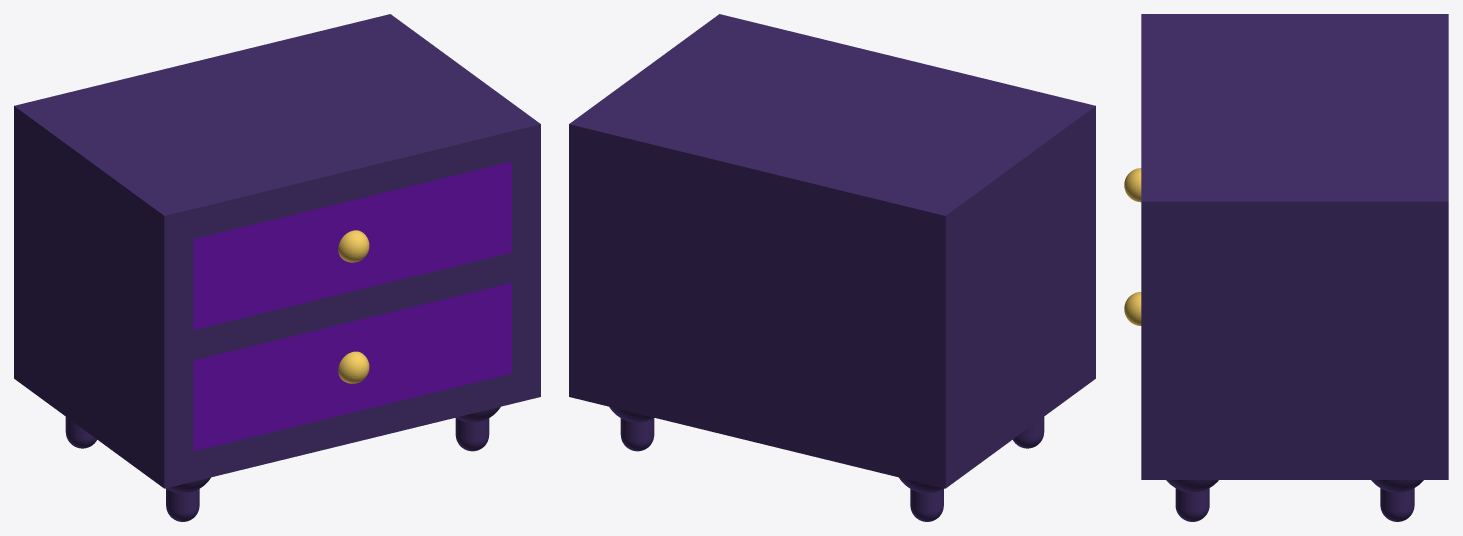
File: mesinha.gltf
3 views of the same model, side by side, from view 1: azimuth 30°, elevation 25°; view 2: azimuth 150°, elevation 25°; view 3: azimuth 270°, elevation 25° (orthographic). The views are drawn at different scales.
Visible parts, largest first — view 1: cuboid (×8), sphere (×2), cylinder (×2); view 2: cuboid (×6), cylinder (×2); view 3: cuboid (×6), sphere (×4), cylinder (×2).
Boxes of the visible parts, <box> form: cuboid (×8): <box>14,14,540,488</box>; sphere (×2): <box>338,230,369,383</box>; cylinder (×2): <box>166,418,489,512</box>; cuboid (×6): <box>569,14,1095,488</box>; cylinder (×2): <box>620,418,943,512</box>; cuboid (×6): <box>1141,14,1448,479</box>; sphere (×4): <box>1124,168,1423,492</box>; cylinder (×2): <box>1175,488,1414,511</box>.
Bounding box in the file's own units: 0.8125 × 0.6875 × 0.5938.
3 materials, 3 textured.
